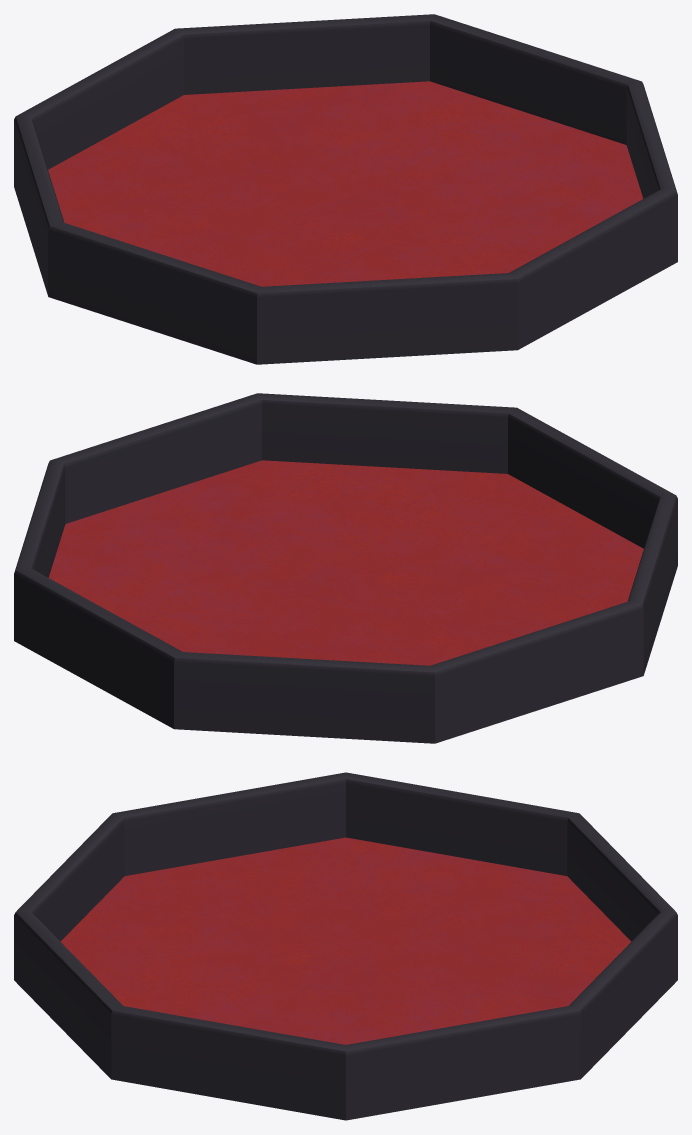
3 renders of one model, top to bottom at view 1: azimuth 30°, elevation 25°; view 2: azimuth 150°, elevation 25°; view 3: azimuth 270°, elevation 25°, orthographic. The views are drawn at different scales.
Visible parts, largest first — view 1: lado_geo, dentro_geo; view 2: lado_geo, dentro_geo; view 3: lado_geo, dentro_geo.
Boxes of the visible parts, x1,y1,x2,y2 form: lado_geo: (14, 14, 677, 364); dentro_geo: (48, 81, 643, 286); lado_geo: (14, 393, 677, 743); dentro_geo: (48, 460, 643, 665); lado_geo: (14, 772, 677, 1120); dentro_geo: (60, 837, 631, 1044).
Bounding box in the file's own units: 0.0567 × 0.00656 × 0.0567.
Materials: 2 (2 with a texture image).
